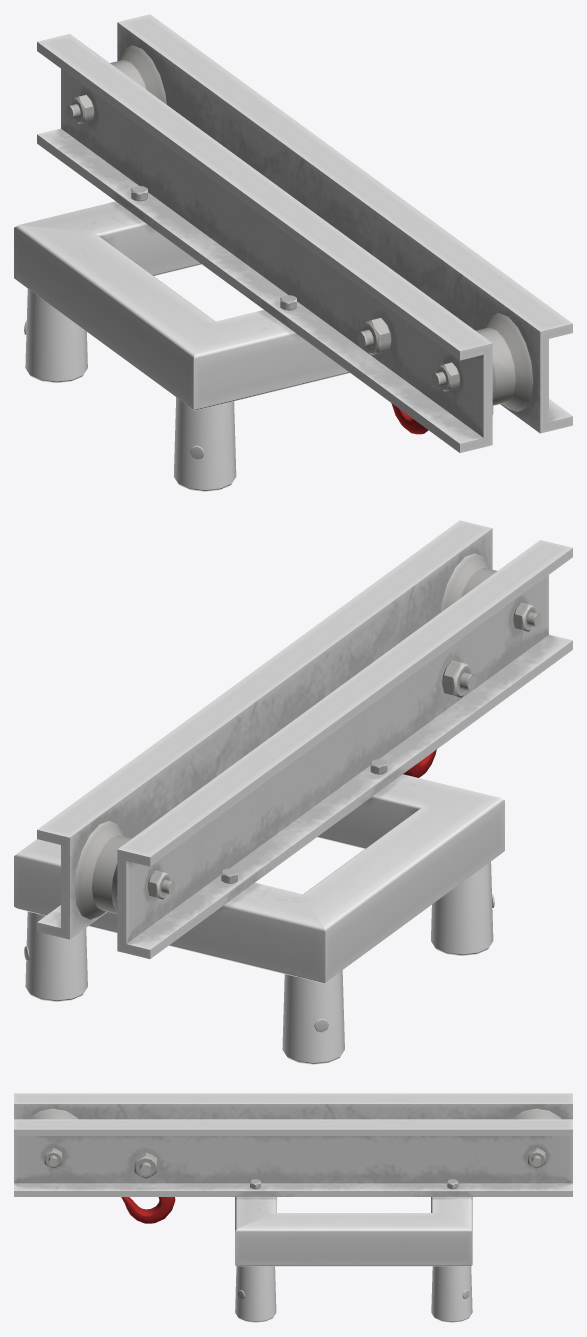
Rendered from SM_Truss_Lift_Chain_Hoist.fbx.
3 renders of one model, top to bottom at view 1: azimuth 30°, elevation 25°; view 2: azimuth 150°, elevation 25°; view 3: azimuth 270°, elevation 25°, orthographic. The views are drawn at different scales.
Parts seen in each view (by area): view 1: SM_Truss_Lift_Chain_Hoist_LOD0; view 2: SM_Truss_Lift_Chain_Hoist_LOD0; view 3: SM_Truss_Lift_Chain_Hoist_LOD0.
Part boxes in pixels (<box>): SM_Truss_Lift_Chain_Hoist_LOD0: <box>14,14,572,491</box>; SM_Truss_Lift_Chain_Hoist_LOD0: <box>14,520,572,1064</box>; SM_Truss_Lift_Chain_Hoist_LOD0: <box>14,1093,572,1322</box>.
Bounding box in the file's own units: 36.32 × 85.48 × 27.24.
Materials: 1 (1 with a texture image).
